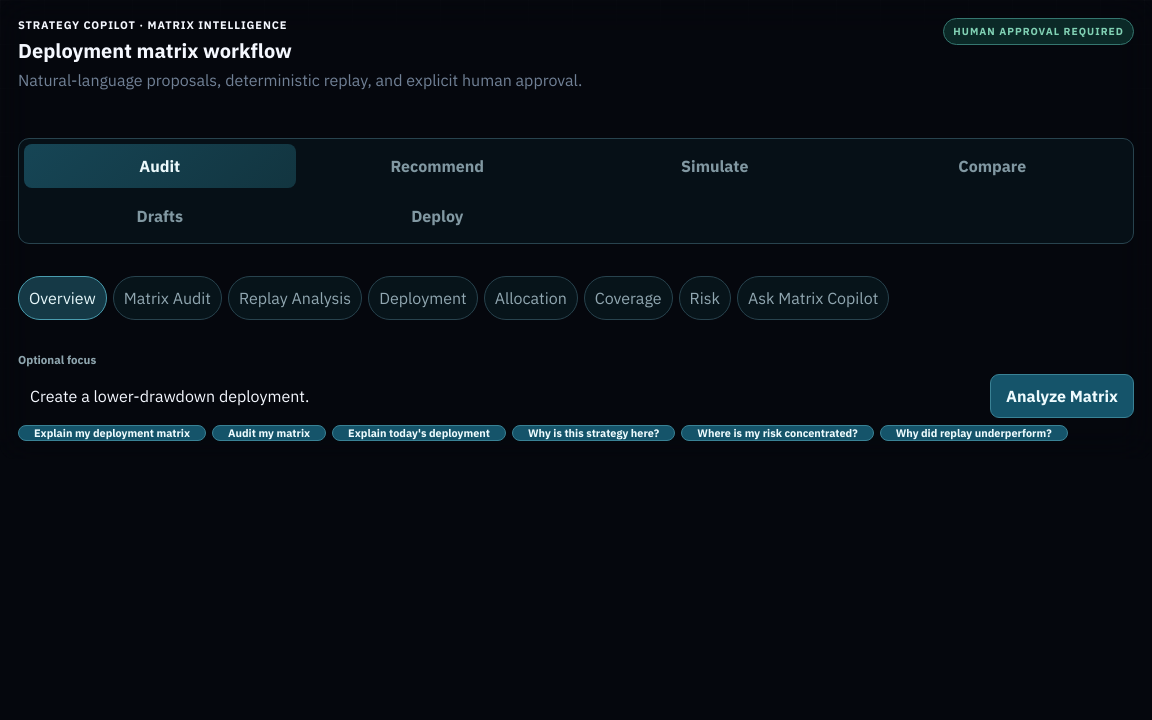
Test: MatrixCopilotPanel › validates questions and submits the selected mode
The width and height of the screenshot is (1152, 720).
Click the button "Ask Matrix Copilot" at (813, 298), box [737,276,889,320]
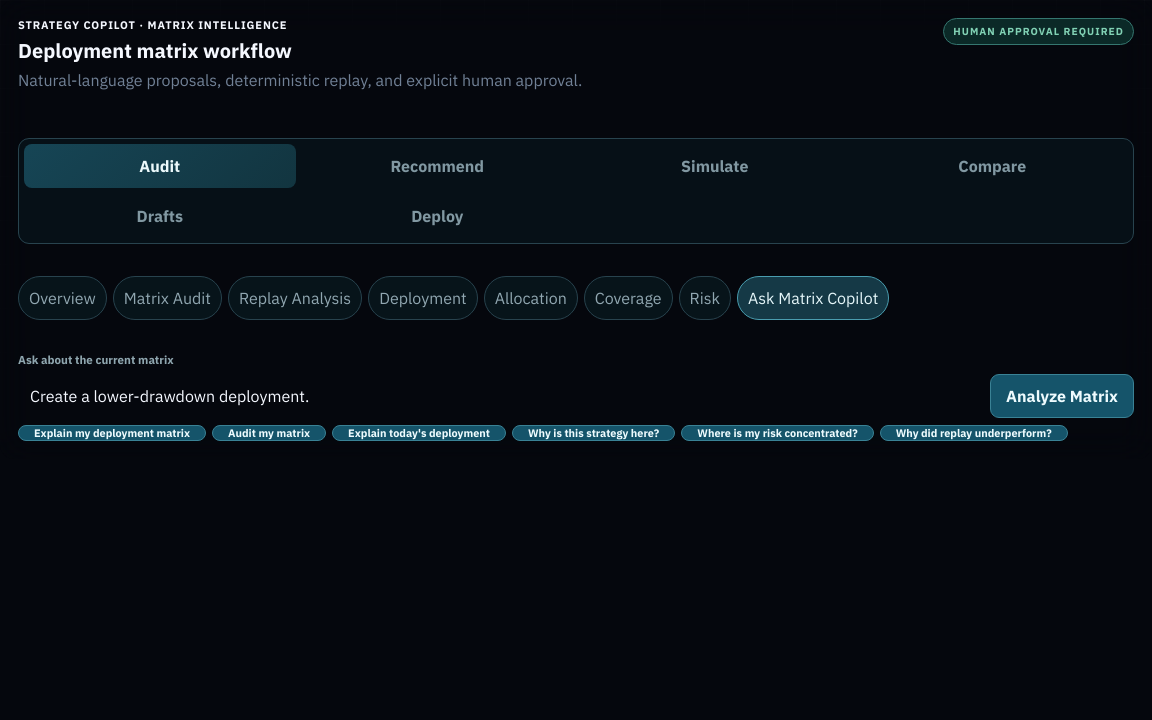
Click the button "Analyze Matrix" at (1062, 396), box [990,374,1134,418]
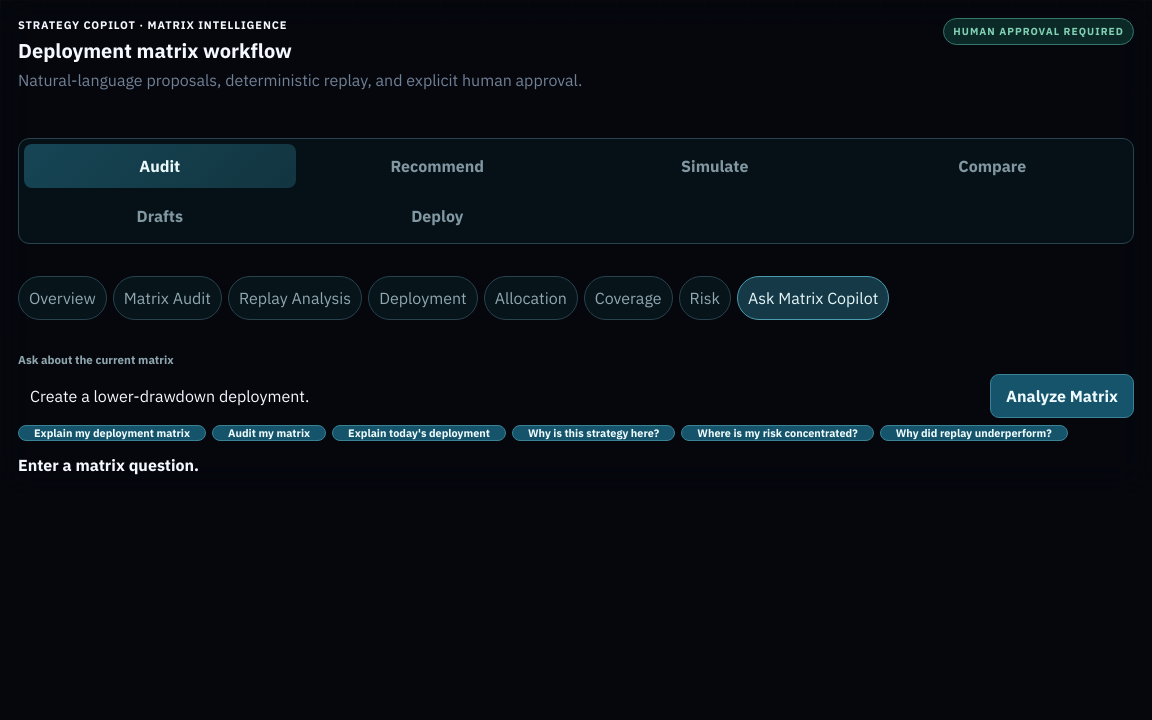
Expected: the text "Enter a matrix question." is shown, [18,455,199,475]
Type "Where is risk concentrated?" into the field labelled "Ask about the current matrix" at (500, 396), box [18,374,982,418]
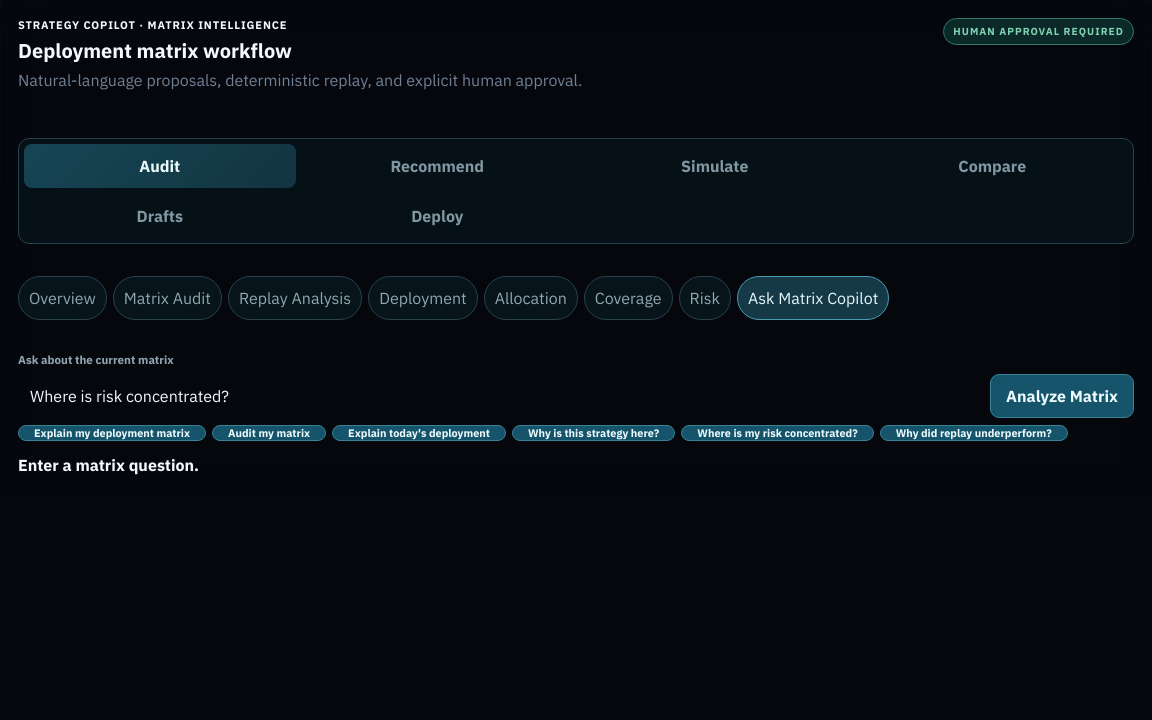
Click the button "Analyze Matrix" at (1062, 396), box [990,374,1134,418]
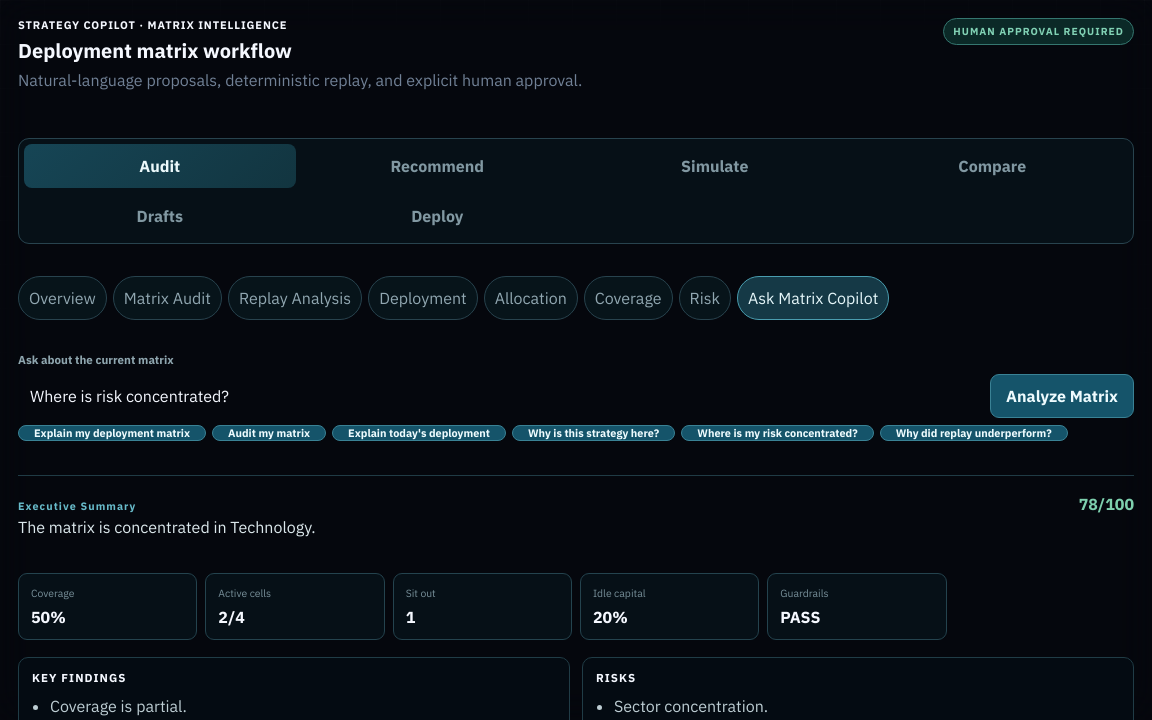
Expected: the text "The matrix is concentrated in Technology." is shown, [18,514,316,540]
